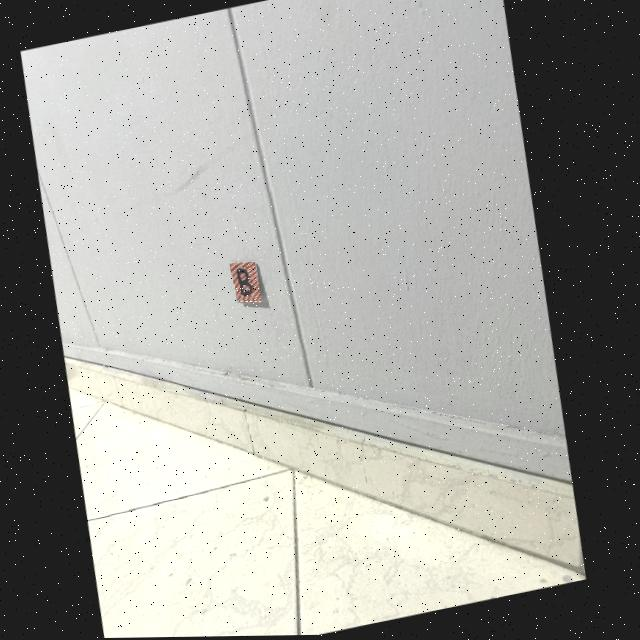B: (240, 269, 256, 297)
